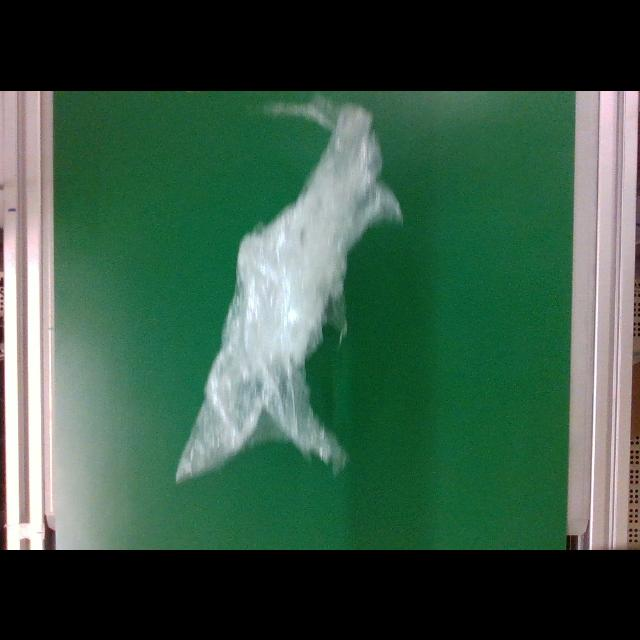scrap_plastic: (173, 93, 404, 485)
